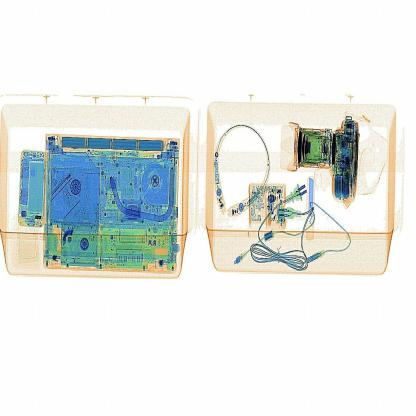pliers: (302, 171, 323, 247)
